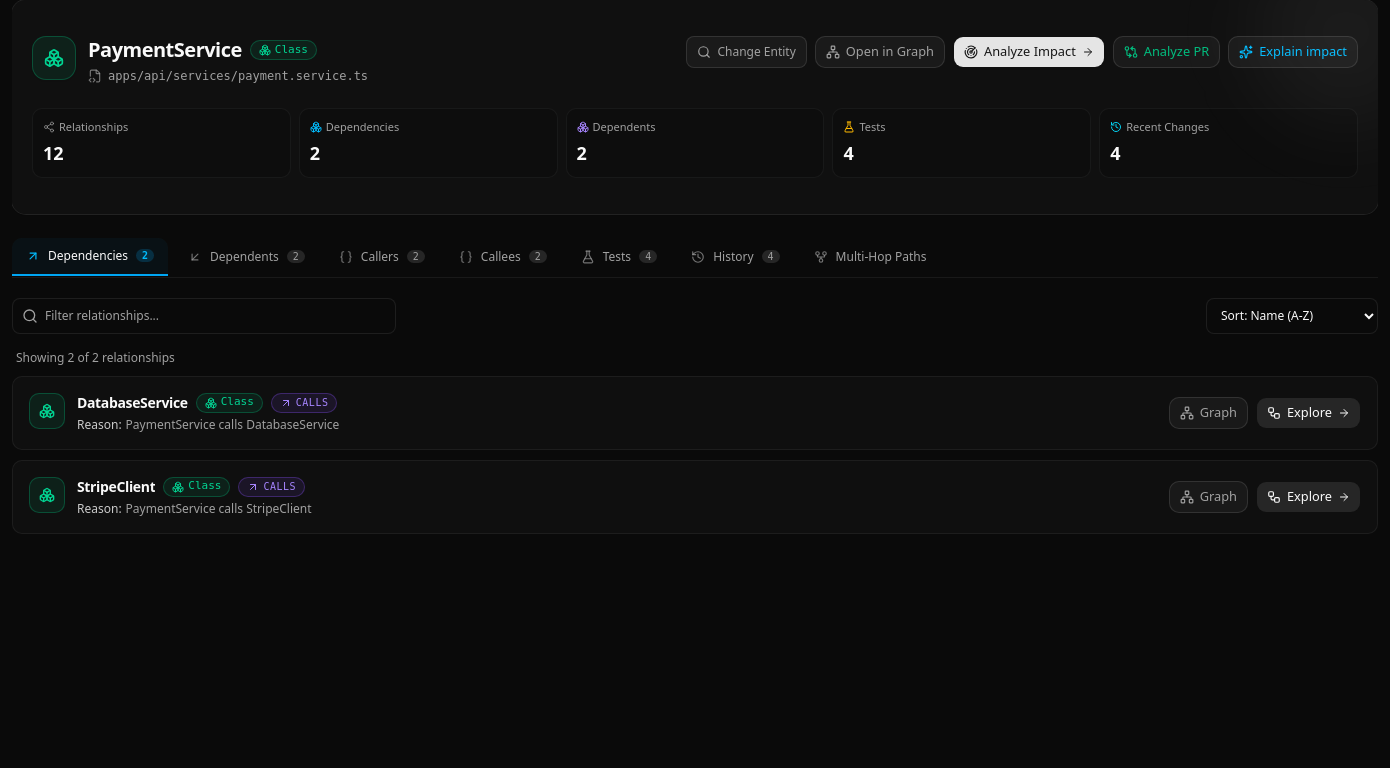
DependencyExplorer › switches tabs to Dependents and loads dependent entities
Expected: the heading "PaymentService" is shown, [88,36,242,64]
Note: Switch tab to Dependents
Step 1. Click the tab "Dependents 2" → (246, 257), box [174,239,319,275]
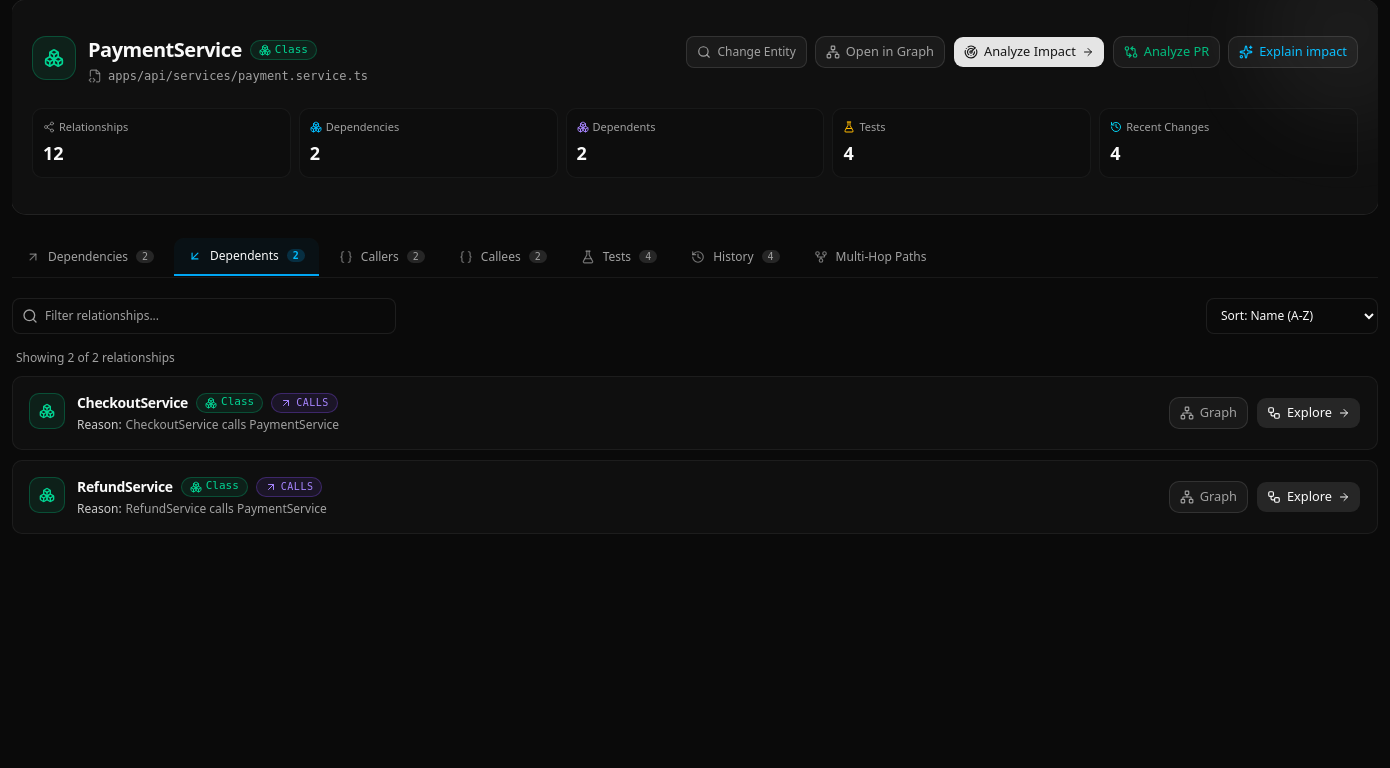
Result: the link "CheckoutService" is shown at [77,393,188,413]
Result: the link "RefundService" is shown at [77,477,173,497]
